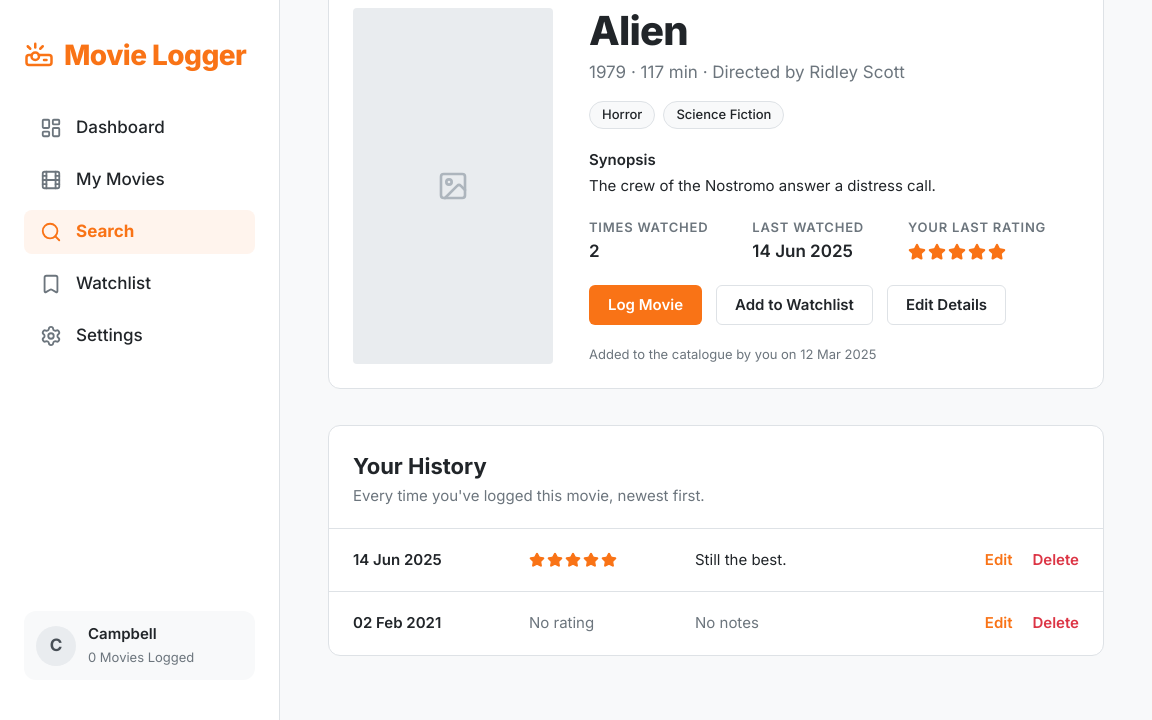
Scenario: Movie details page › asks for confirmation before deleting a log, then refreshes the history
This screenshot has width=1152, height=720.
(page scrolled)
Click the button with aria-label "Delete log from 02 Feb 2021". click: (1056, 623)
box: x1=1032 y1=612 x2=1079 y2=634
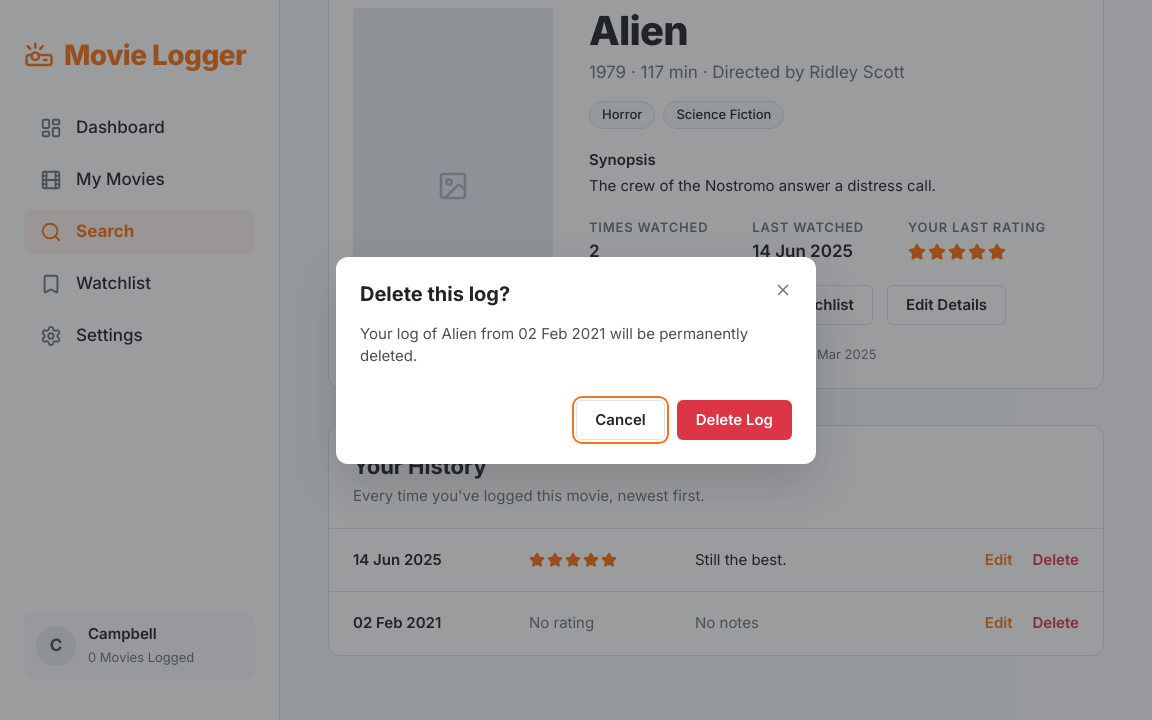
Click the button "Cancel". click: (620, 420)
box: x1=576 y1=400 x2=665 y2=440
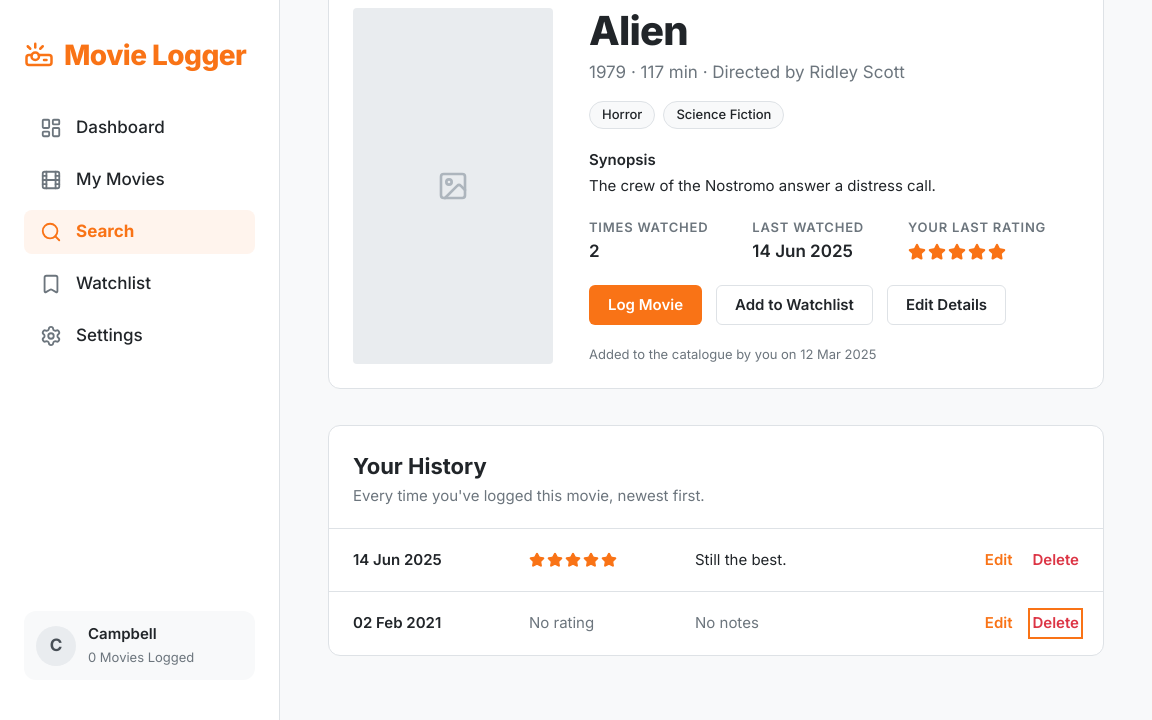
Click the button with aria-label "Delete log from 02 Feb 2021". click: (1056, 623)
box: x1=1032 y1=612 x2=1079 y2=634
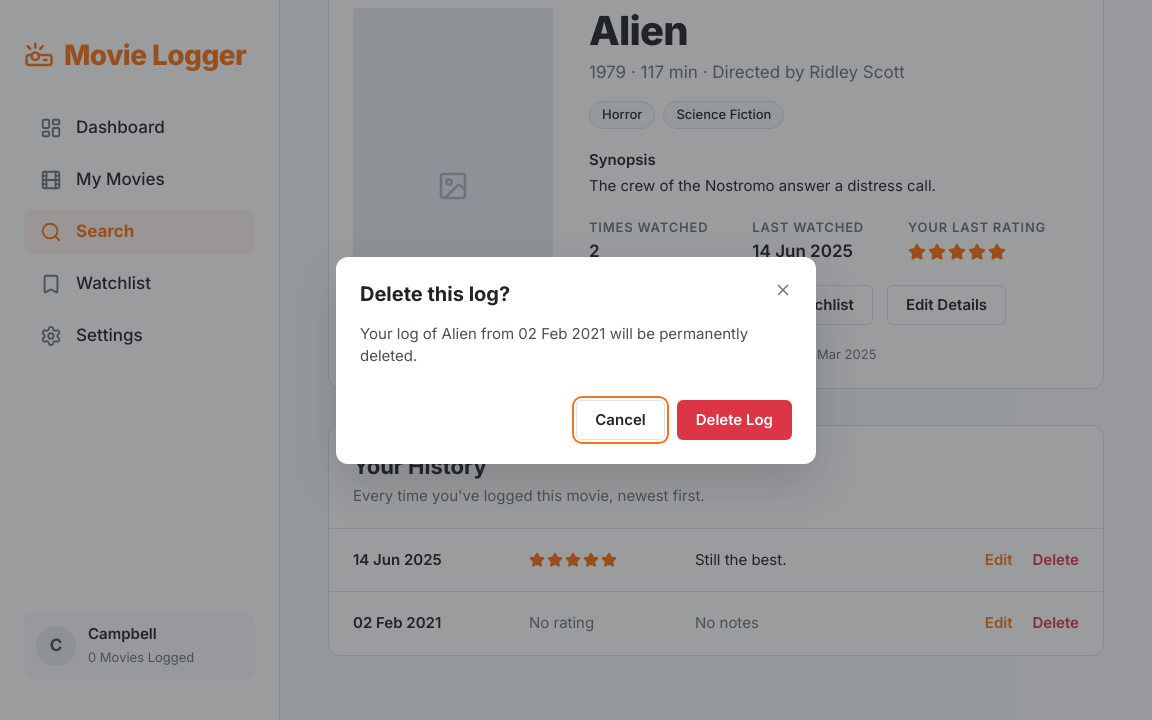
Click the button "Delete Log". click: (734, 420)
box: x1=677 y1=400 x2=792 y2=440
(page scrolled)
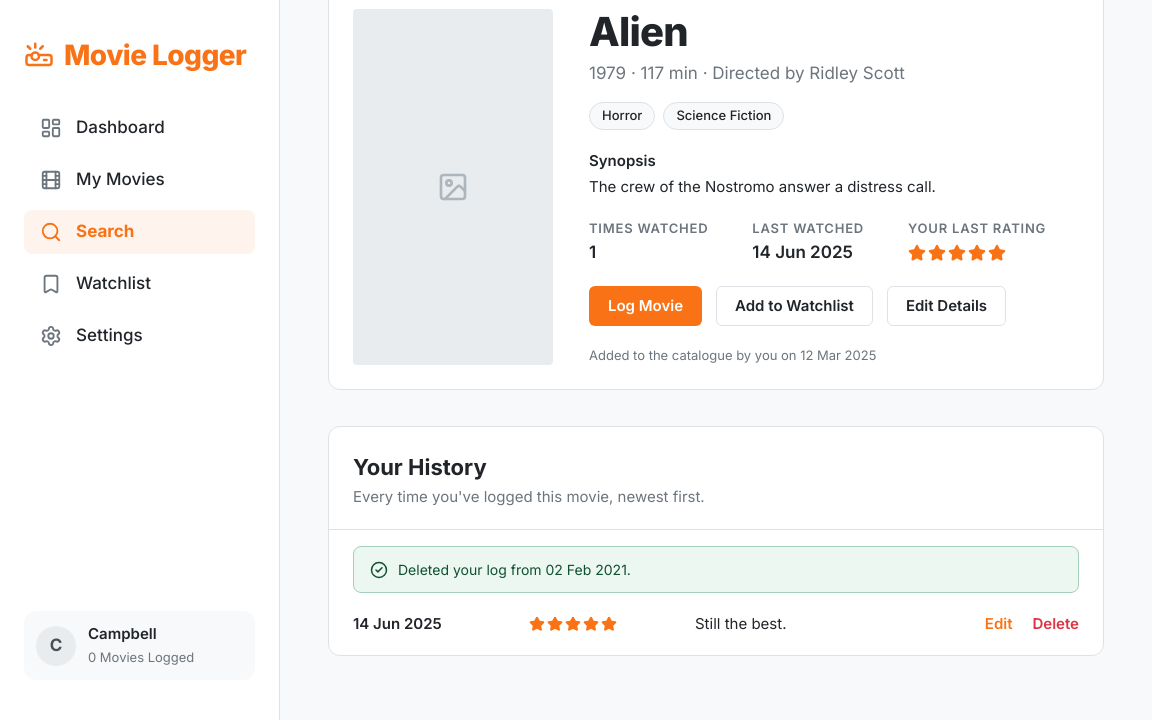
expect the dialog is gone: met
expect the text "Deleted your log from 02 Feb 2021." is shown: met, box x1=398 y1=558 x2=631 y2=580
